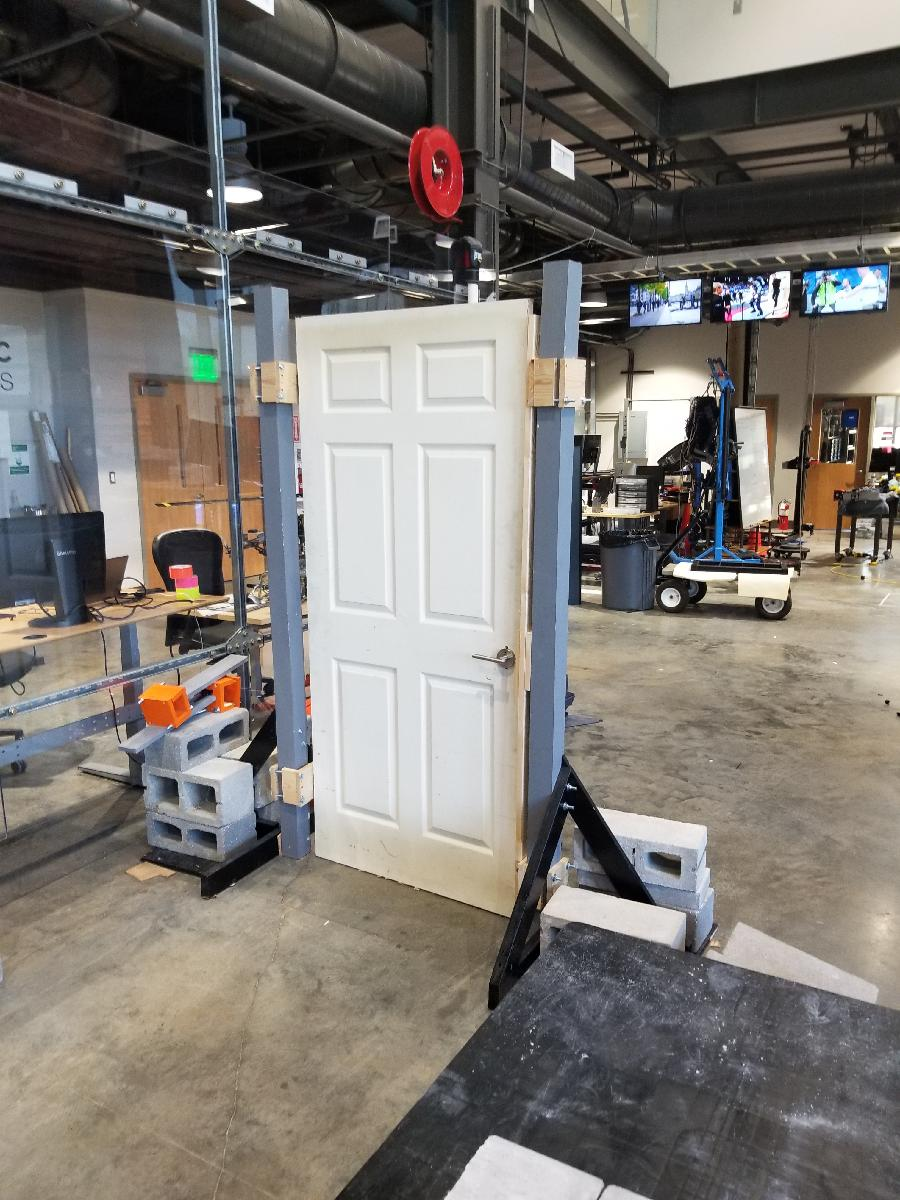door: (292, 297, 536, 938)
doorHandle: (473, 644, 521, 680)
